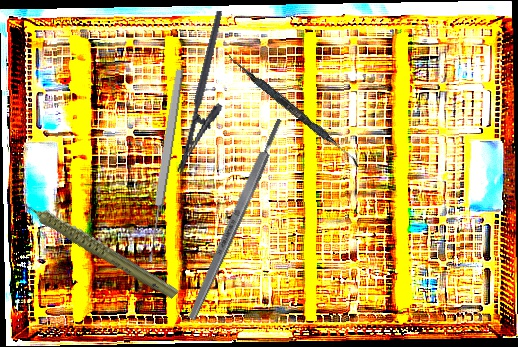Handpiece: (14, 161, 181, 329)
Needle Holder: (175, 9, 245, 181)
Scalpel Handle: (185, 116, 286, 322)
Spatula Surgical: (224, 54, 365, 168)
Surgical Spoon: (143, 68, 186, 264)
